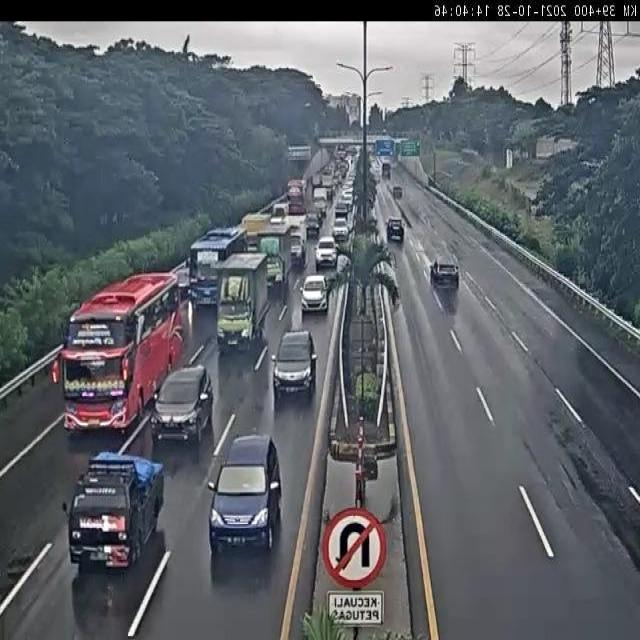Bus: (51, 271, 182, 432), (188, 226, 248, 310)
Car: (207, 433, 282, 556), (148, 366, 214, 443), (272, 330, 318, 398), (300, 274, 330, 316), (430, 257, 460, 290), (314, 236, 340, 270), (384, 216, 406, 242), (331, 218, 348, 240)
Truck: (215, 252, 269, 351), (256, 222, 293, 292)
